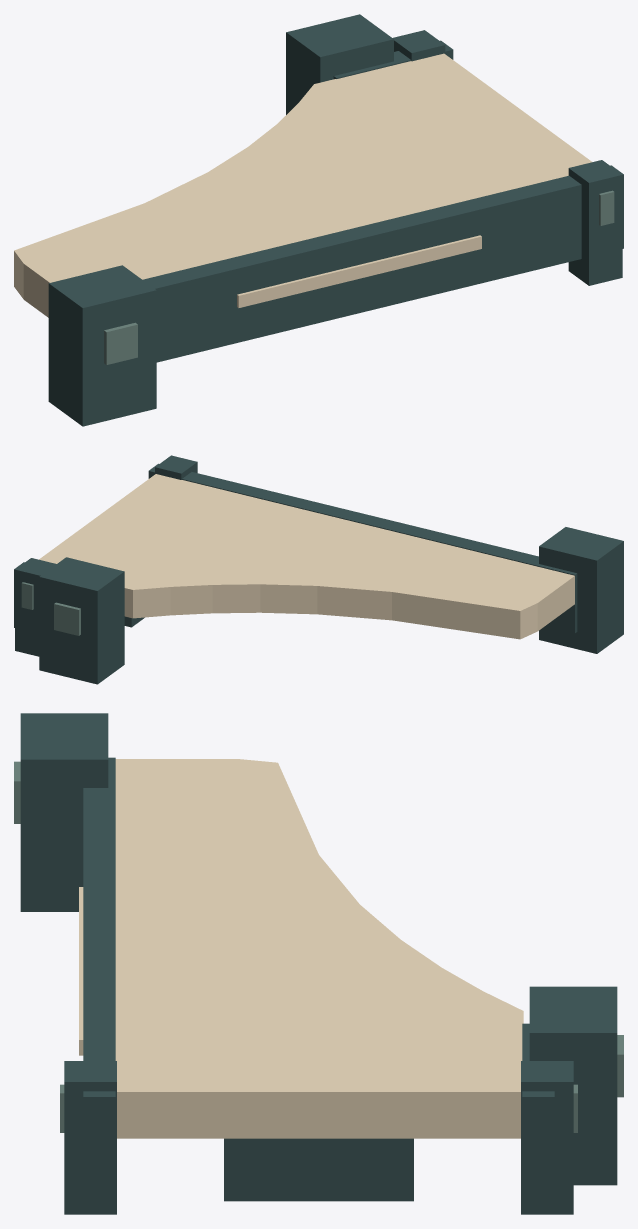
The model's file is Pier_Angled_75_lab2.glb.
3 views of the same model, one above another, from view 1: azimuth 30°, elevation 25°; view 2: azimuth 150°, elevation 25°; view 3: azimuth 270°, elevation 25° (orthographic). The views are drawn at different scales.
Parts seen in each view (by area): view 1: Pier_Angled_75; view 2: Pier_Angled_75; view 3: Pier_Angled_75.
Part boxes in pixels (bbox=[...]): Pier_Angled_75: bbox=[14, 14, 623, 426]; Pier_Angled_75: bbox=[14, 455, 623, 684]; Pier_Angled_75: bbox=[14, 713, 623, 1214].
Size of the model in its own units: 5.75 by 1.15 by 4.17.
